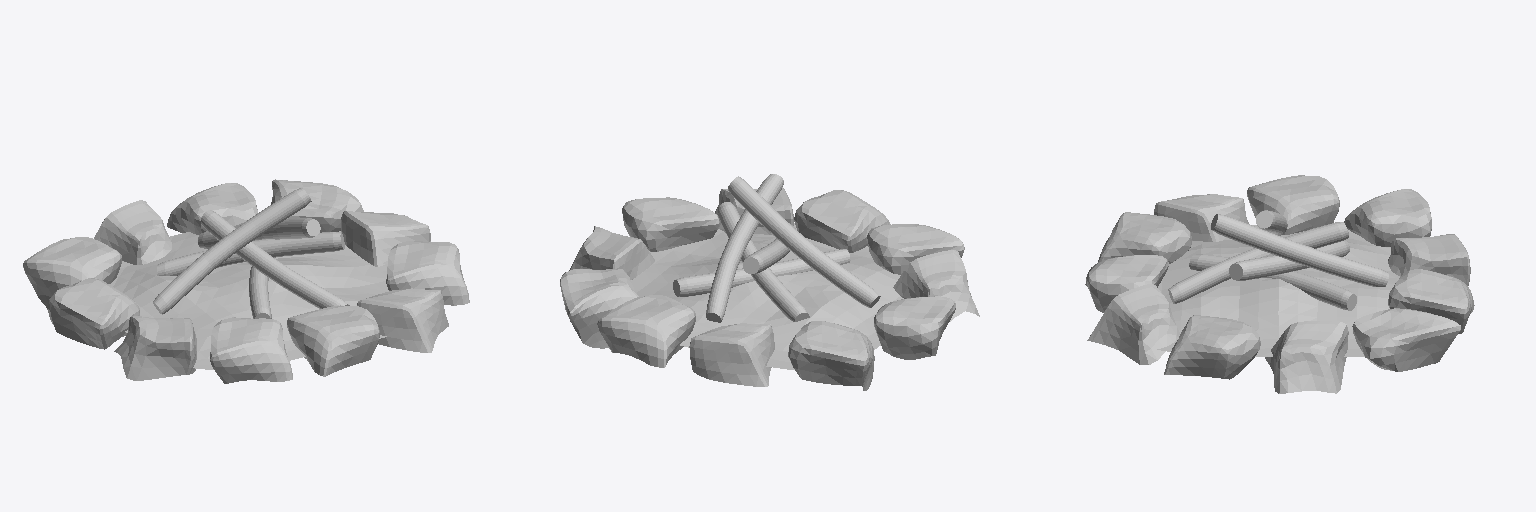
File: fireplace.obj
The picture shows the model from 3 angles: view 1: azimuth 30°, elevation 25°; view 2: azimuth 150°, elevation 25°; view 3: azimuth 270°, elevation 25°; orthographic projection.
Parts seen in each view (by area): view 1: Ohniste_Circle.004; view 2: Ohniste_Circle.004; view 3: Ohniste_Circle.004.
Boxes of the visible parts, <box> form: Ohniste_Circle.004: <box>23,179,469,383</box>; Ohniste_Circle.004: <box>560,174,979,390</box>; Ohniste_Circle.004: <box>1085,175,1474,393</box>.
Size of the model in its own units: 12.07 by 3.92 by 10.84.